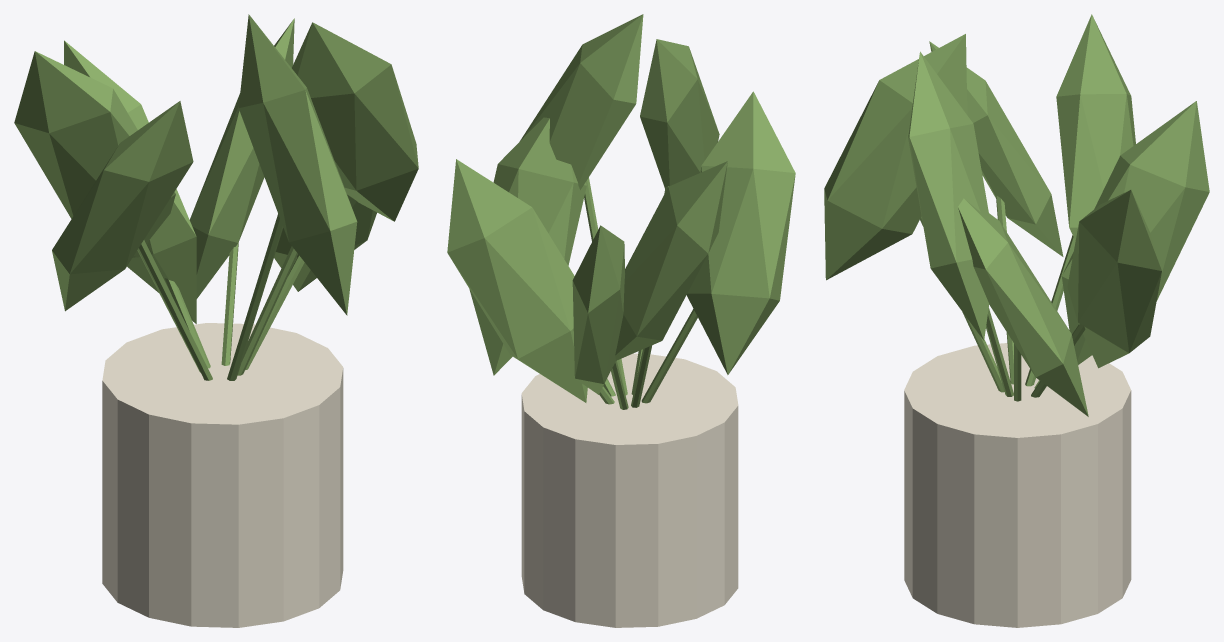
The model's file is lobby_T3_floor_planter.glb.
3 renders of one model, left to right at view 1: azimuth 30°, elevation 25°; view 2: azimuth 150°, elevation 25°; view 3: azimuth 270°, elevation 25°, orthographic. The views are drawn at different scales.
Visible parts, largest first — view 1: lobby_T3_floor_planter__Static_Assembly; view 2: lobby_T3_floor_planter__Static_Assembly; view 3: lobby_T3_floor_planter__Static_Assembly.
Part boxes in pixels (x1=…): lobby_T3_floor_planter__Static_Assembly: x1=14, y1=14, x2=418, y2=627; lobby_T3_floor_planter__Static_Assembly: x1=447, y1=14, x2=795, y2=627; lobby_T3_floor_planter__Static_Assembly: x1=824, y1=14, x2=1209, y2=627.
Size of the model in its own units: 0.6467 by 1.1 by 0.7065.
